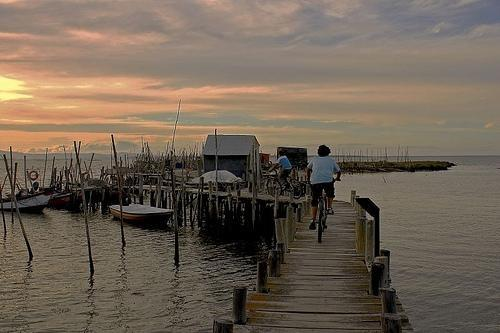bicycle: (269, 166, 306, 200), (314, 189, 328, 244)
